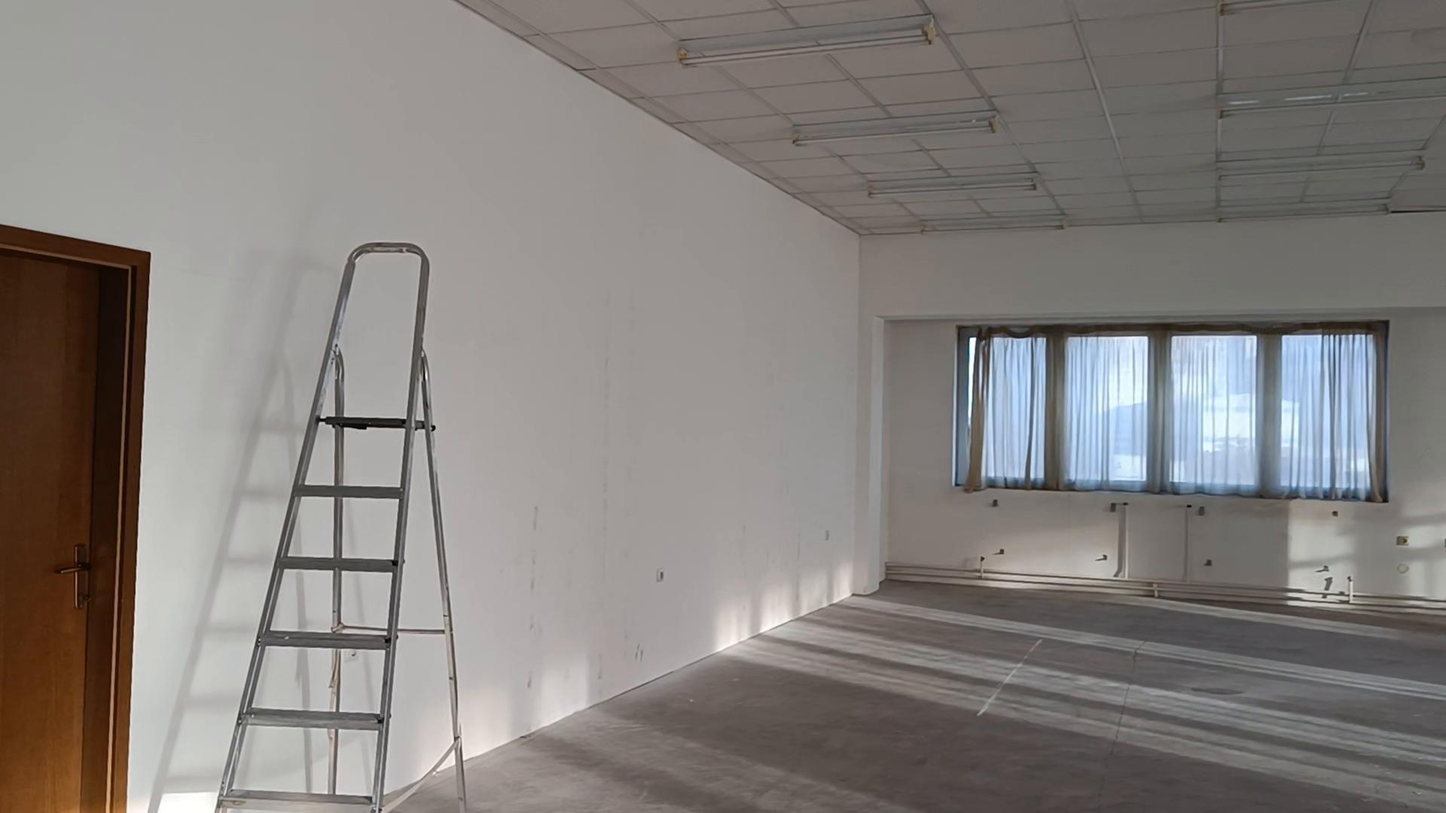ceiling: (458, 0, 1445, 233)
floor: (469, 581, 1445, 812)
wall: (0, 0, 1445, 812), (953, 492, 1313, 593)
